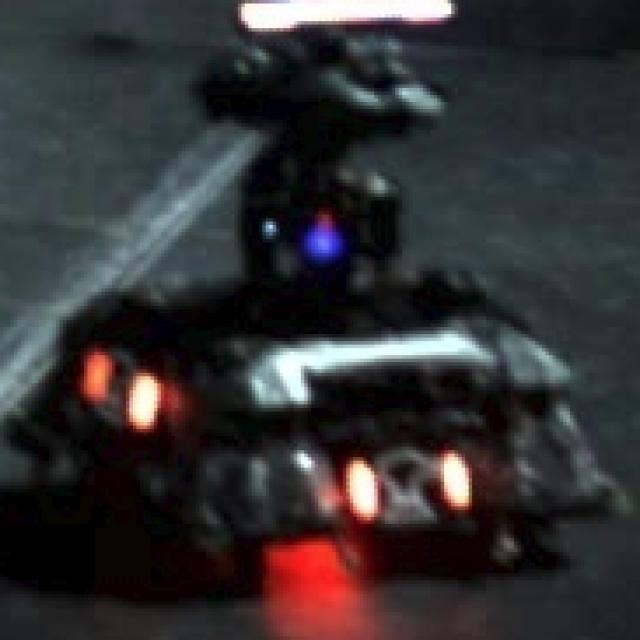Rs: (349, 447, 462, 517), (84, 352, 154, 432)
